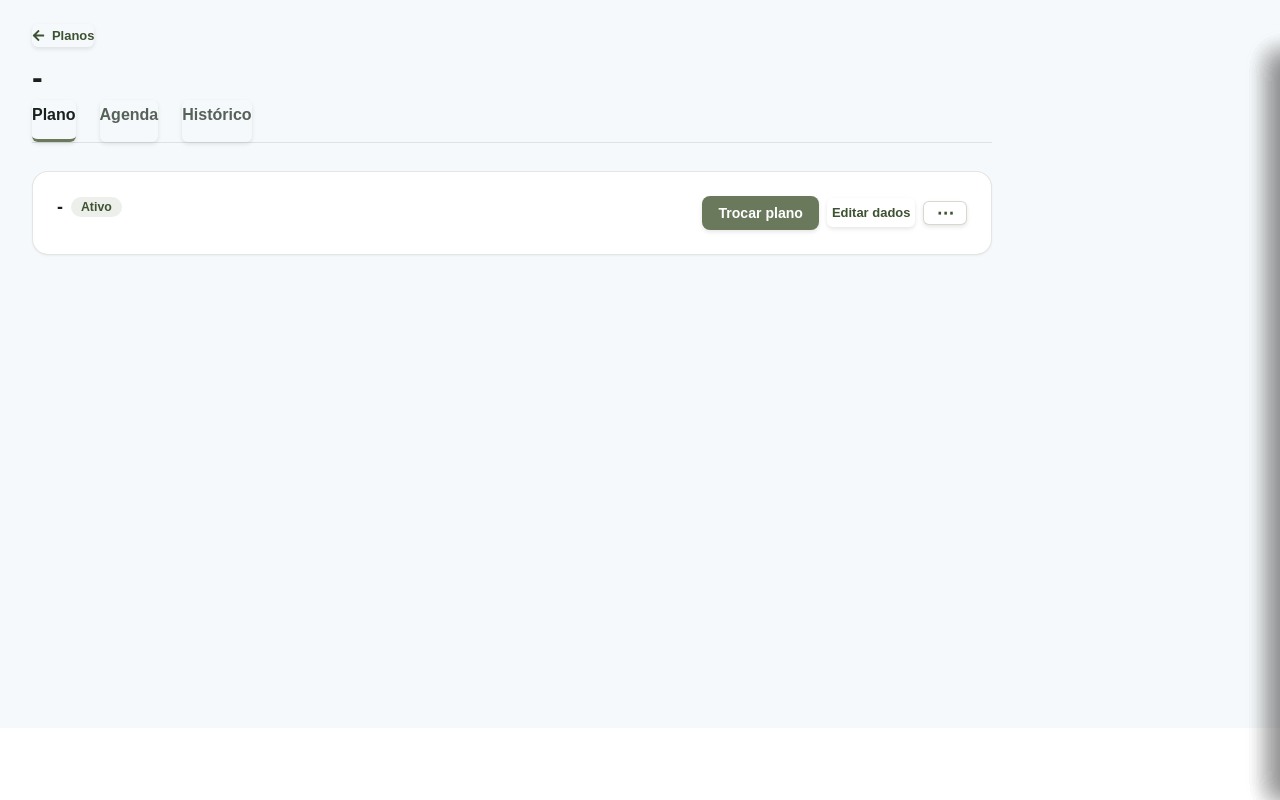
Test: Planos no contêiner do App Shell › exibe erro de autorização ou carregamento sem declarar histórico vazio
This screenshot has width=1280, height=800.
Click the tab "Histórico": x=217, y=121 [182,100,252,142]
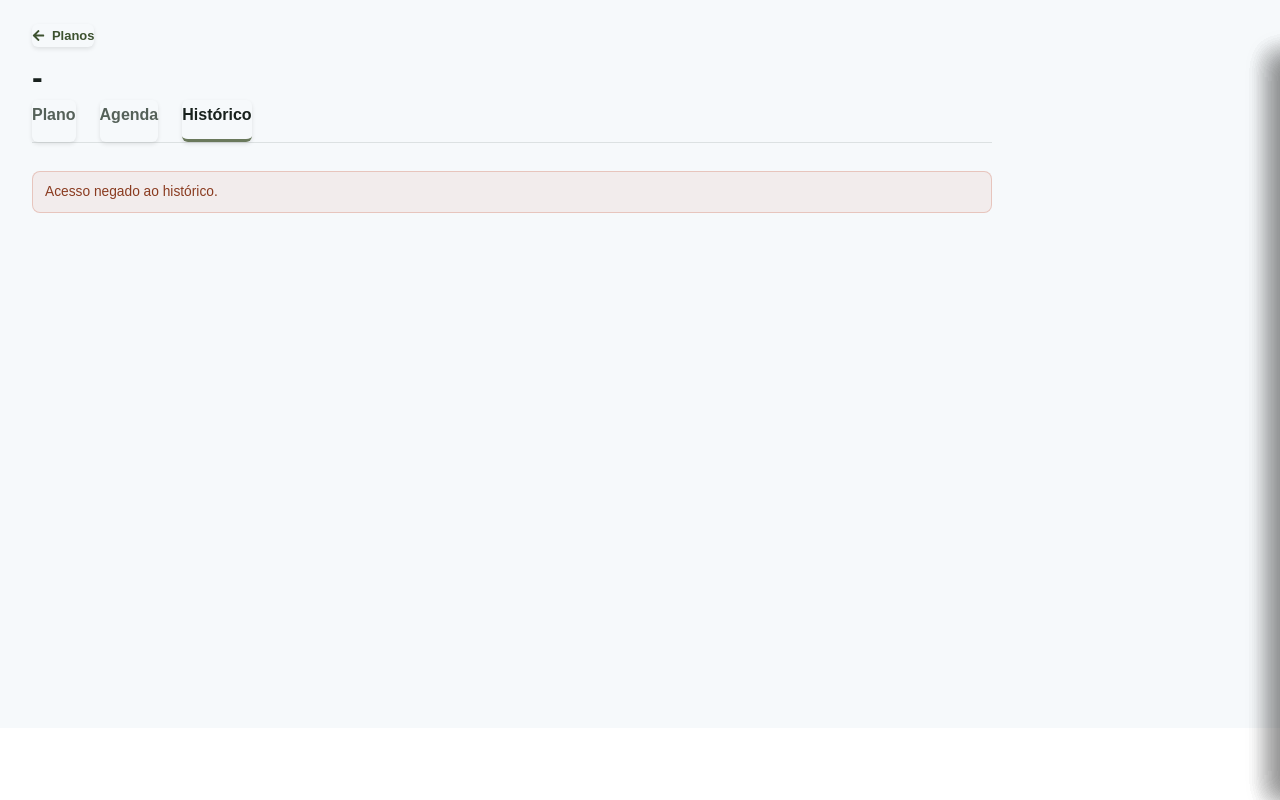
Check: the text "Acesso negado ao histórico." is shown, box [32,171,992,213]
